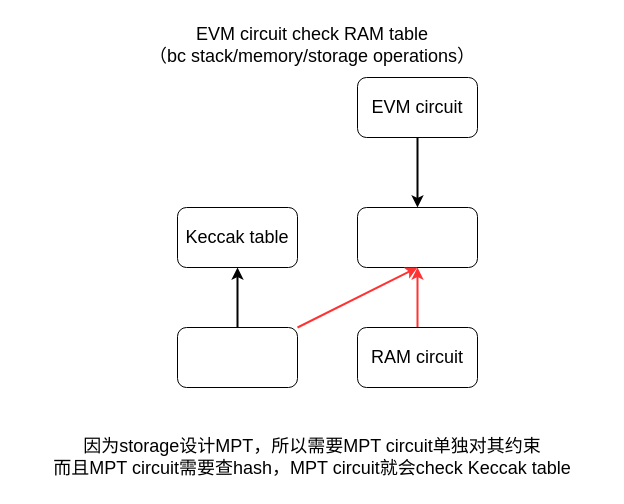
Image size: 624x504. Some labels were removed from this diagram. The shapes that lost their labels are listed below. From the top down, each one's box as (x1, y1, x2, y2) in pixels, then its label:
(356, 206, 478, 268): RAM table
(176, 326, 298, 388): MPT circuit
